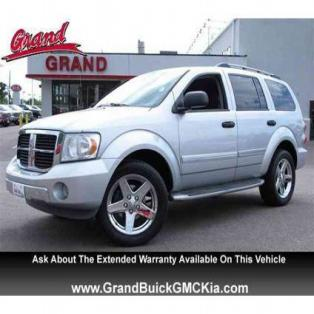Auto: (5, 63, 308, 247)
